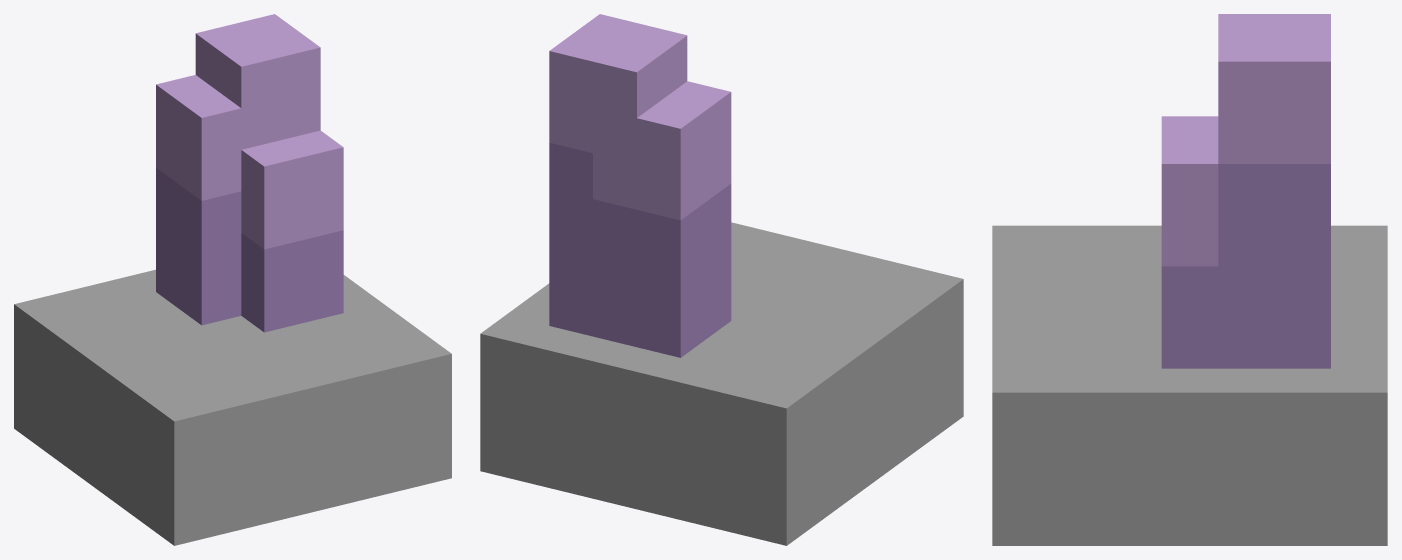
The model's file is geoda_02.glb.
3 renders of one model, left to right at view 1: azimuth 30°, elevation 25°; view 2: azimuth 150°, elevation 25°; view 3: azimuth 270°, elevation 25°, orthographic. The views are drawn at different scales.
Visible parts, largest first — view 1: geoda_02; view 2: geoda_02; view 3: geoda_02.
Part boxes in pixels (box(x1,y1,x2,y2)): geoda_02: box(14, 14, 451, 545); geoda_02: box(480, 14, 963, 545); geoda_02: box(992, 14, 1387, 545).
Size of the model in its own units: 0.7 by 0.9 by 0.7.
